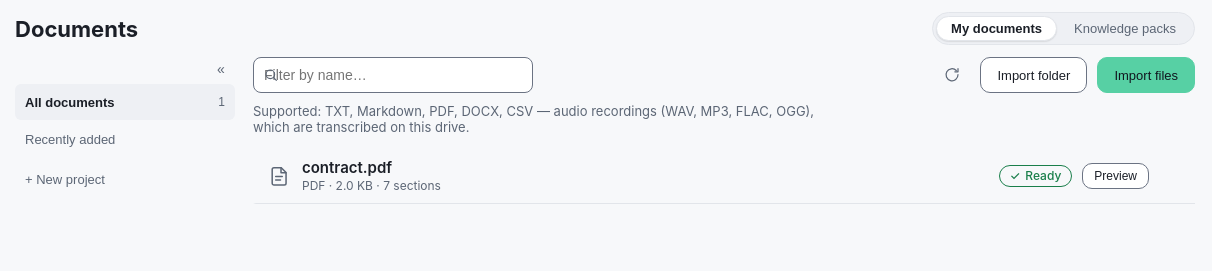
Test case: DocumentsScreen — DR-3 toolbar refresh error handling › a listDocuments rejection on toolbar Refresh shows the error banner
This screenshot has width=1212, height=271.
Expected: the text "contract.pdf" is shown, [302,158,392,176]
Click the button named "Refresh". click: (952, 75)
box: [934,57,970,93]
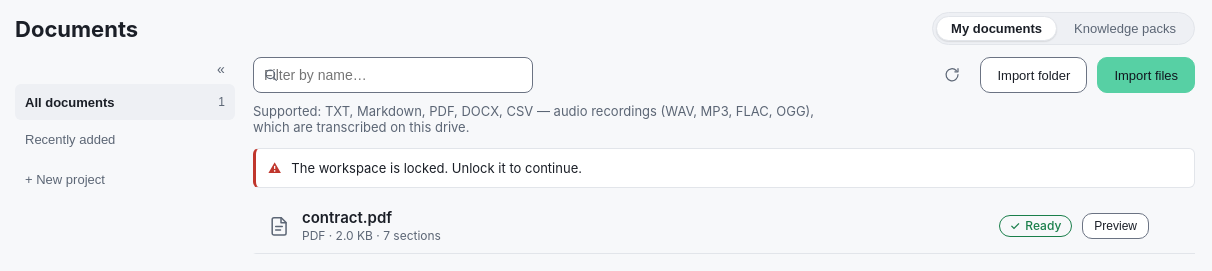
Result: the text "The workspace is locked. Unlock it to continue." is shown at [291,160,582,176]
